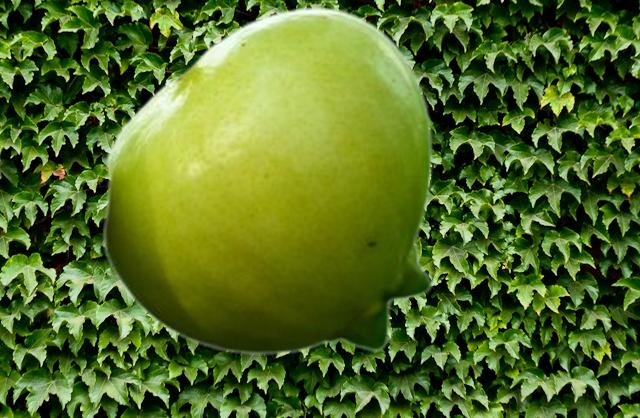guava: (101, 5, 433, 354)
